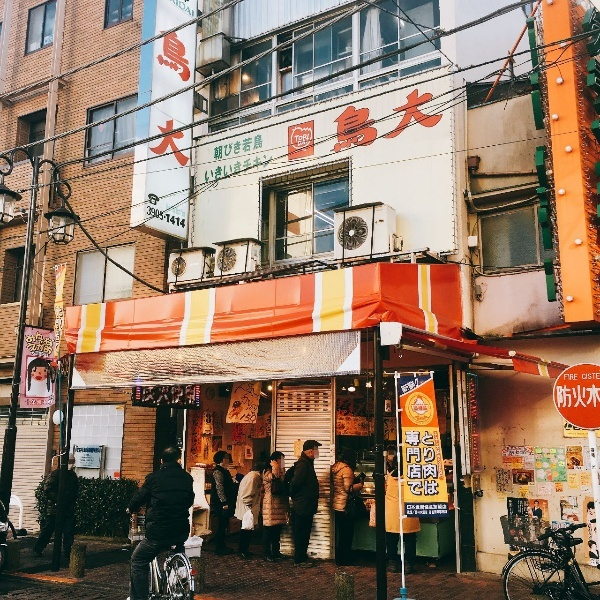text: (579, 6, 592, 220), (177, 24, 192, 173), (162, 24, 176, 173), (593, 6, 600, 220), (337, 83, 352, 158), (353, 83, 368, 158), (369, 83, 384, 158), (385, 83, 400, 158), (401, 83, 416, 158), (417, 83, 432, 158), (469, 378, 480, 468), (433, 83, 443, 158), (405, 431, 416, 498), (422, 432, 432, 498), (433, 432, 441, 498), (437, 433, 448, 480), (257, 153, 273, 184), (209, 153, 224, 184), (225, 153, 240, 184), (241, 153, 256, 184), (194, 418, 208, 451), (225, 134, 240, 163), (241, 134, 256, 163), (55, 306, 64, 352), (33, 330, 48, 357), (417, 431, 423, 498), (161, 205, 176, 229), (561, 384, 576, 408), (577, 384, 592, 408), (497, 470, 512, 492), (147, 205, 160, 229), (145, 385, 160, 405), (161, 385, 176, 405), (177, 385, 192, 405), (241, 395, 256, 413), (337, 399, 352, 417), (215, 134, 224, 163), (401, 378, 416, 395), (241, 382, 256, 398), (518, 500, 528, 523), (177, 205, 186, 229), (81, 454, 96, 468), (49, 330, 56, 357), (417, 504, 432, 516), (433, 504, 448, 516), (257, 134, 263, 163), (593, 384, 600, 408), (26, 330, 32, 357), (334, 83, 336, 158), (513, 447, 528, 457), (243, 413, 256, 423), (406, 504, 416, 516), (386, 403, 400, 411), (385, 419, 390, 441), (33, 399, 48, 406), (556, 384, 560, 408), (205, 153, 208, 184), (503, 447, 512, 457), (481, 378, 482, 468), (294, 134, 304, 143), (564, 373, 576, 380), (582, 372, 592, 380), (193, 385, 196, 405), (593, 372, 600, 380), (25, 399, 32, 406), (237, 382, 240, 398), (509, 500, 512, 516), (567, 448, 576, 453), (305, 134, 310, 143), (298, 140, 304, 147), (417, 406, 427, 410), (529, 447, 533, 457), (257, 395, 259, 413), (417, 378, 419, 395), (257, 382, 259, 398), (577, 448, 582, 453), (206, 413, 208, 424), (209, 413, 211, 424), (383, 419, 384, 441), (593, 448, 595, 459), (305, 140, 308, 147), (143, 385, 144, 405), (593, 466, 596, 470), (591, 448, 592, 459), (414, 406, 416, 410), (577, 373, 578, 380)
